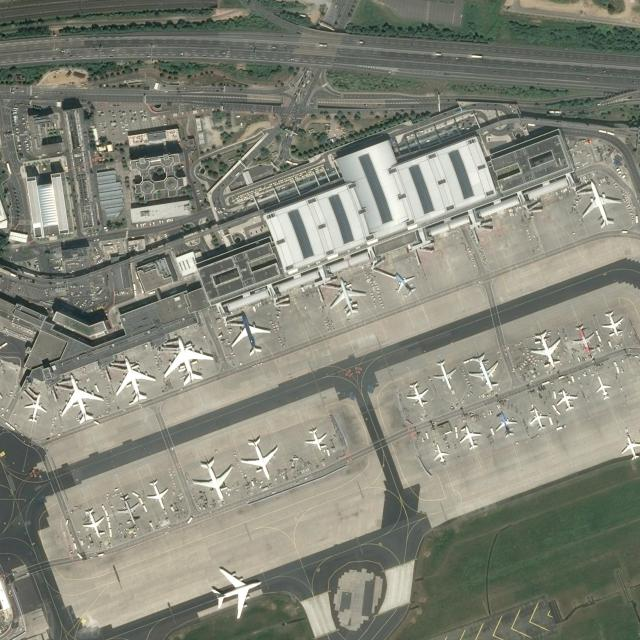1: (620, 434, 640, 460)
aircraft: (210, 567, 262, 618), (162, 338, 213, 386), (59, 374, 104, 424), (580, 179, 622, 227), (114, 358, 154, 405), (229, 314, 271, 356), (192, 458, 232, 502), (238, 438, 278, 480), (329, 278, 365, 316), (530, 332, 562, 368), (469, 354, 498, 391), (432, 361, 458, 390), (23, 393, 48, 422), (116, 494, 140, 524), (571, 323, 594, 353), (147, 480, 169, 510), (82, 508, 104, 538), (602, 310, 624, 337), (406, 382, 429, 407), (459, 425, 482, 450), (496, 411, 517, 438), (304, 427, 327, 451), (555, 389, 577, 413), (395, 272, 416, 296), (528, 406, 549, 430), (594, 375, 612, 398), (434, 444, 450, 465)
